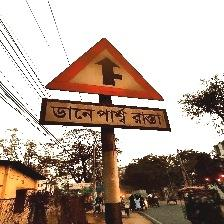Side-road-right: (41, 38, 170, 131)
